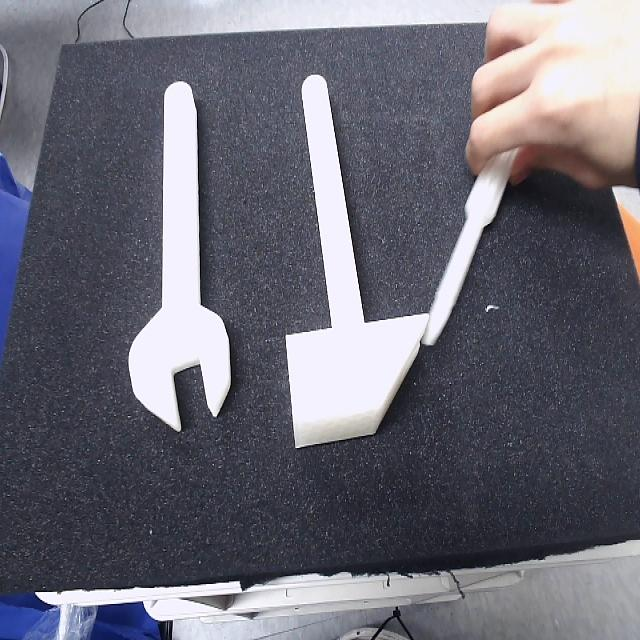Hammer: (285, 75, 429, 441)
Spanner: (128, 81, 232, 429)
